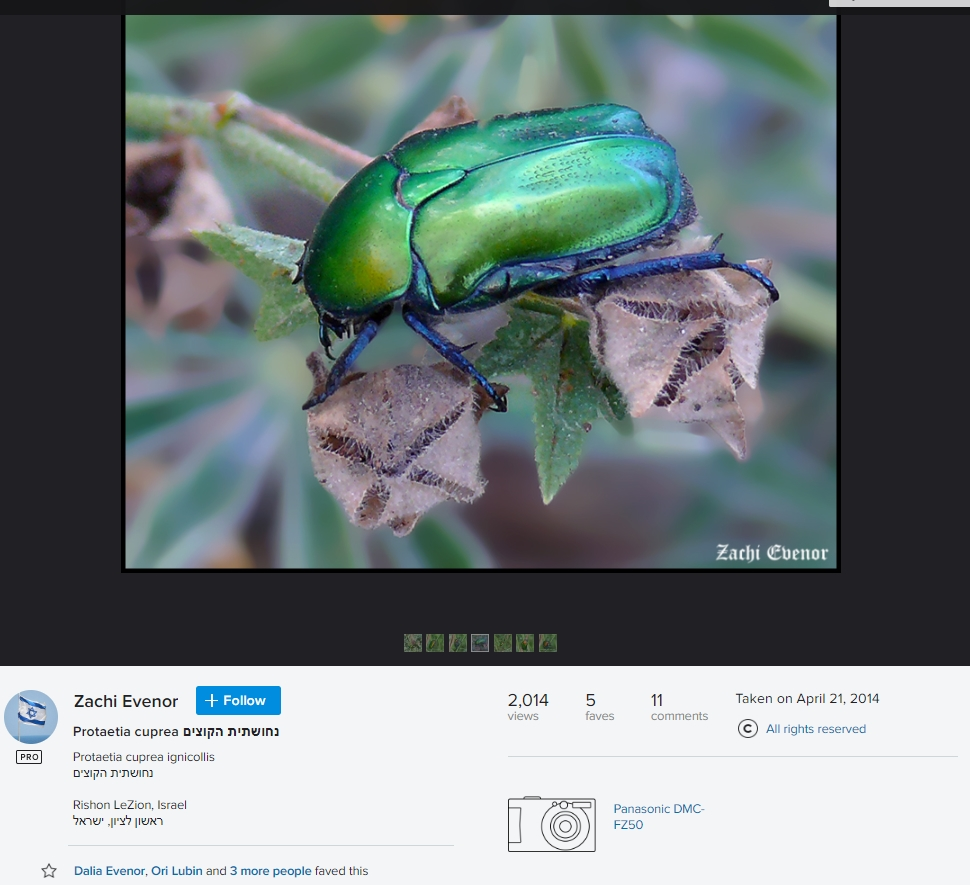Protaetia_cuprea_ignicollis: (296, 92, 802, 414)
